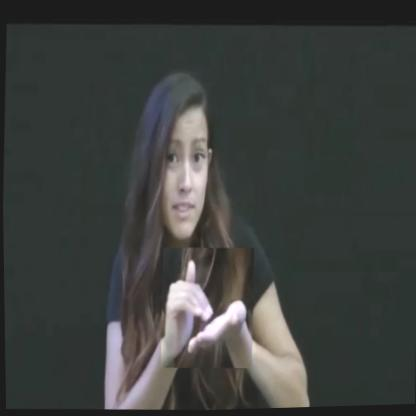ExcuseMe: (158, 246, 255, 372)
